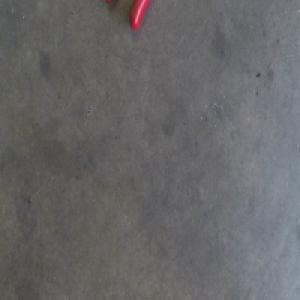Pliers: (116, 0, 148, 30)
